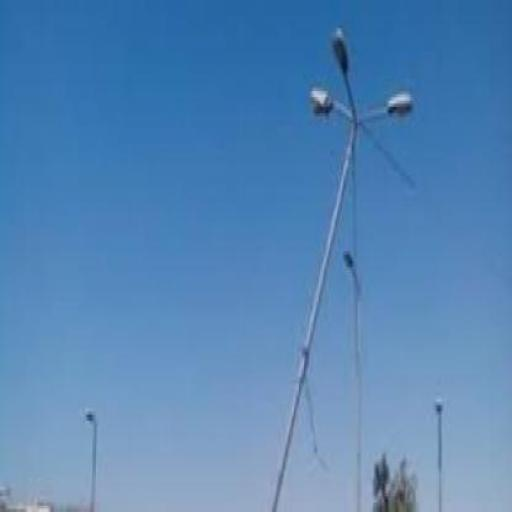street light: (272, 82, 414, 510), (328, 34, 362, 509), (83, 409, 99, 509), (433, 396, 446, 510)
